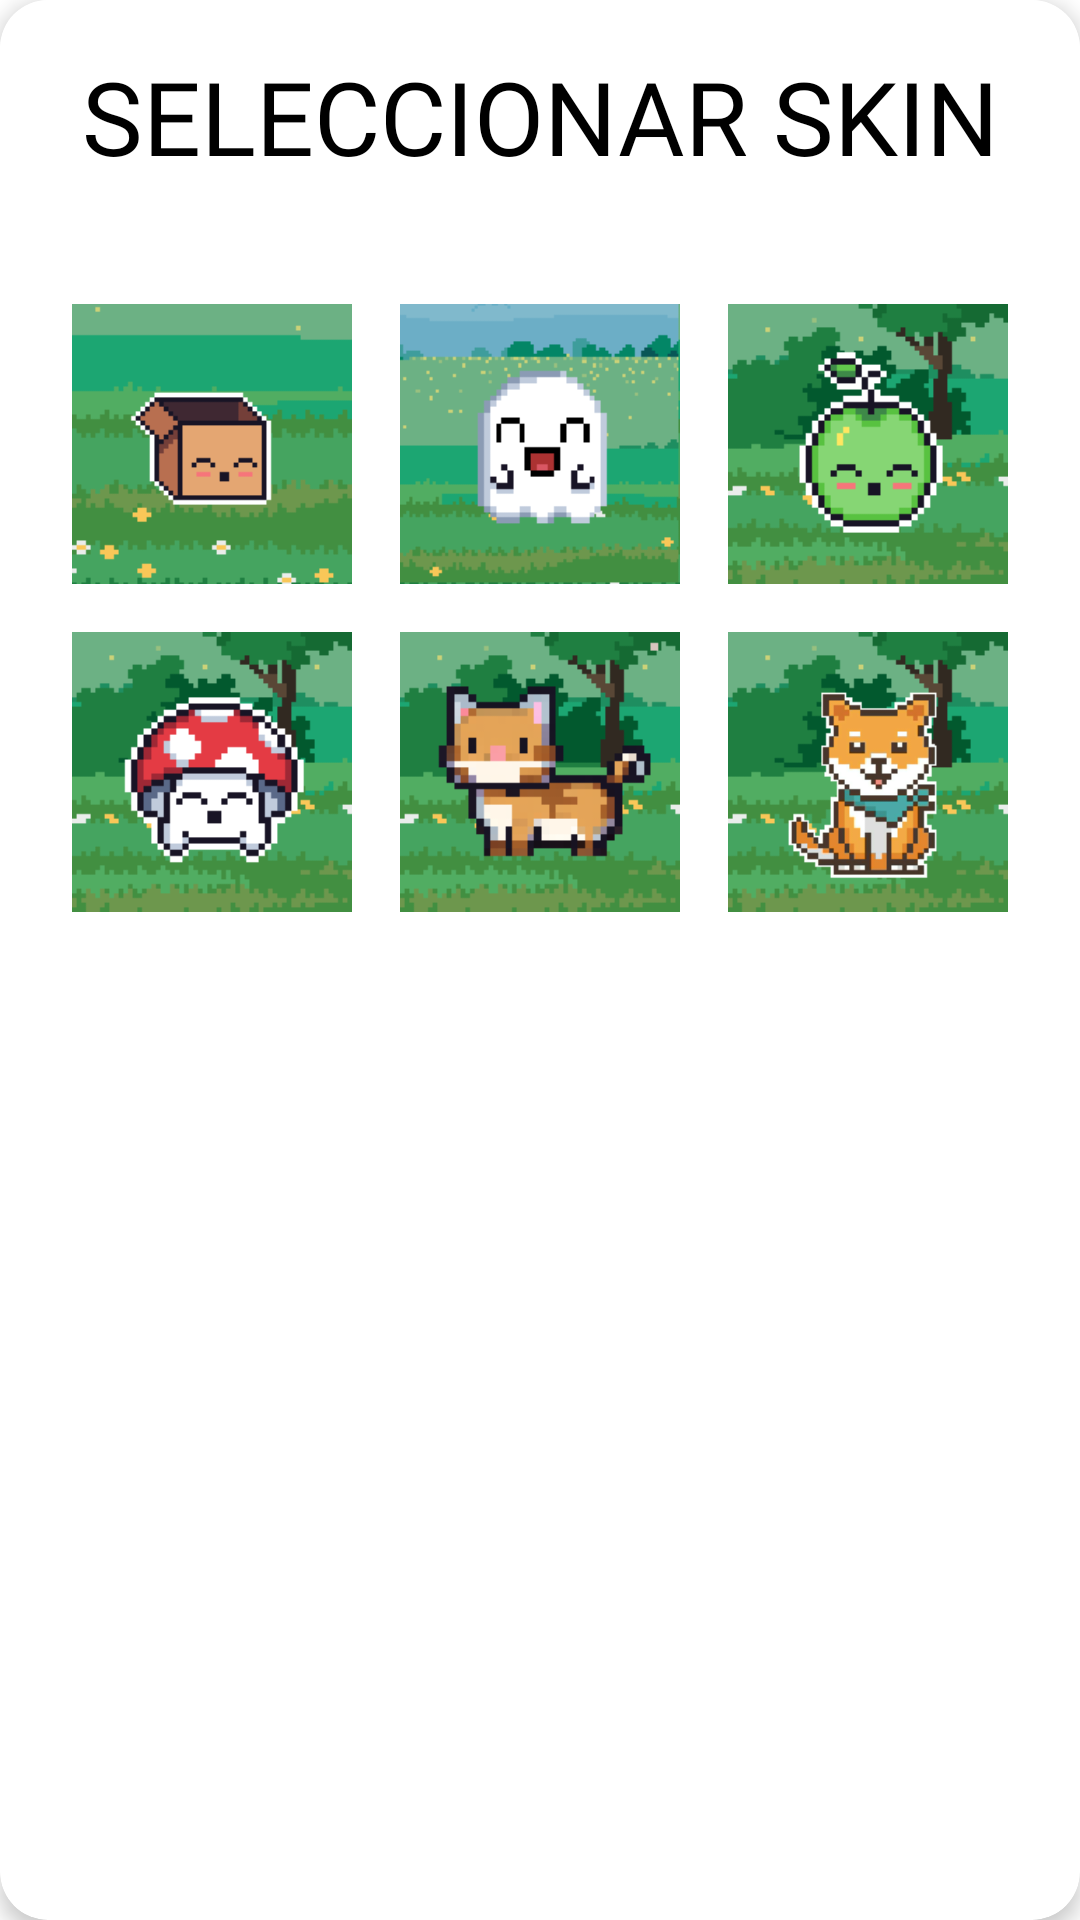

Named icons in this screenshot (1080×1920) and their centers, [x,y]:
Skin 1: [212,444]
Skin 2: [540,444]
Skin 3: [868,444]
Skin 4: [212,772]
Skin 5: [540,772]
Skin 6: [868,772]
